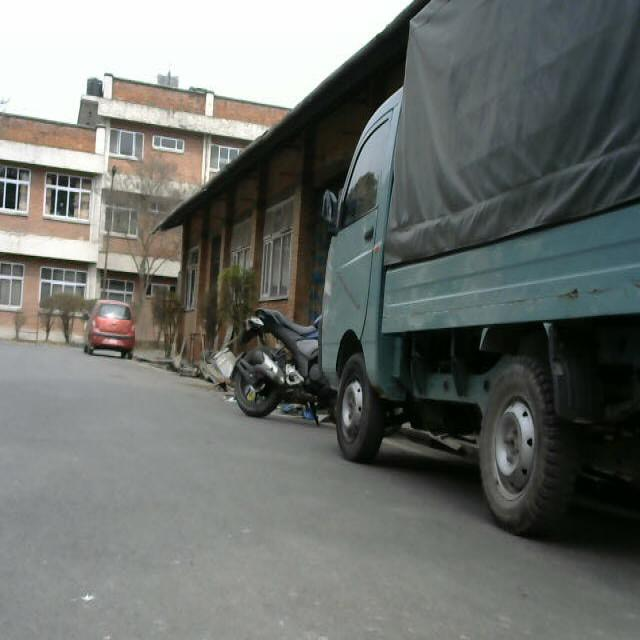Buildings: (0, 57, 265, 297)
Car: (87, 293, 142, 358)
Pole: (104, 162, 122, 296)
Road: (13, 339, 586, 640)
Vehicle: (317, 0, 636, 488)
